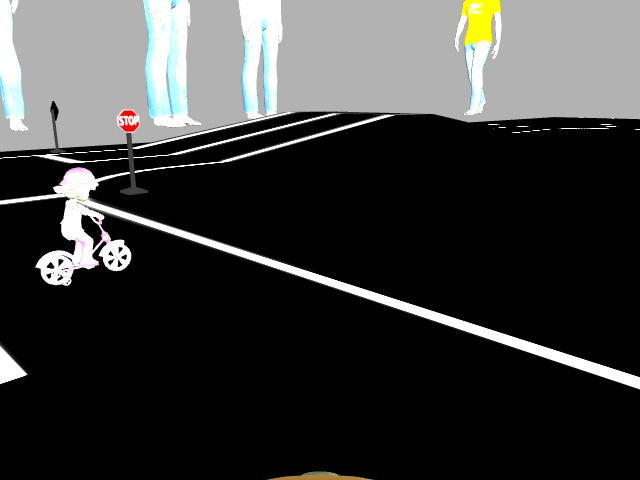Pedestrian: (34, 163, 138, 292)
Stop: (113, 103, 142, 132)
